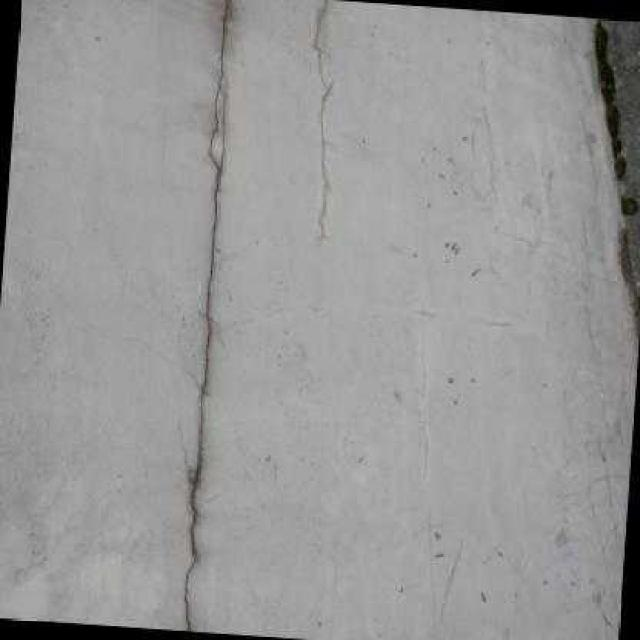D00: (182, 0, 229, 632)
